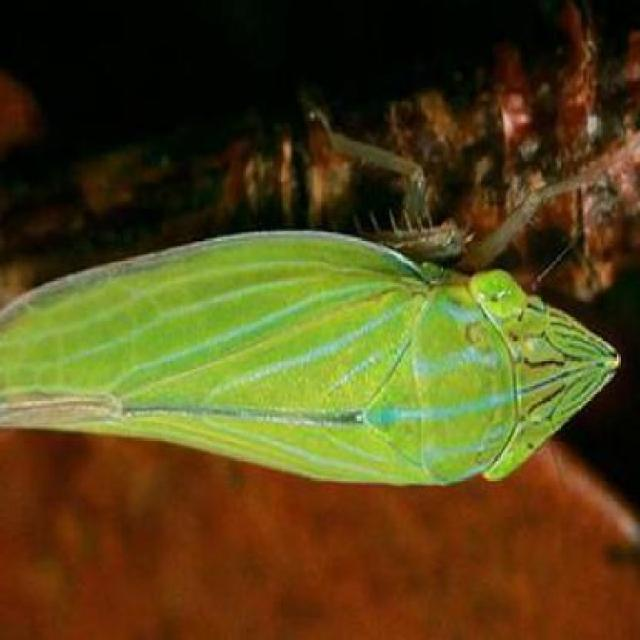green-leafhopper: (2, 228, 613, 489)
